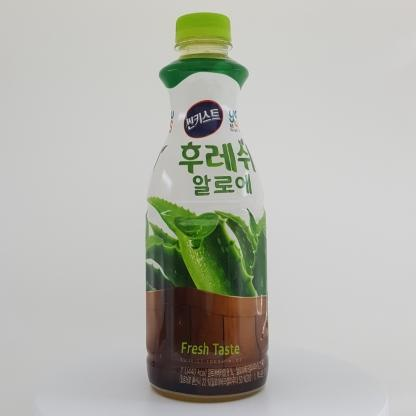----------1L: (145, 12, 269, 402)
